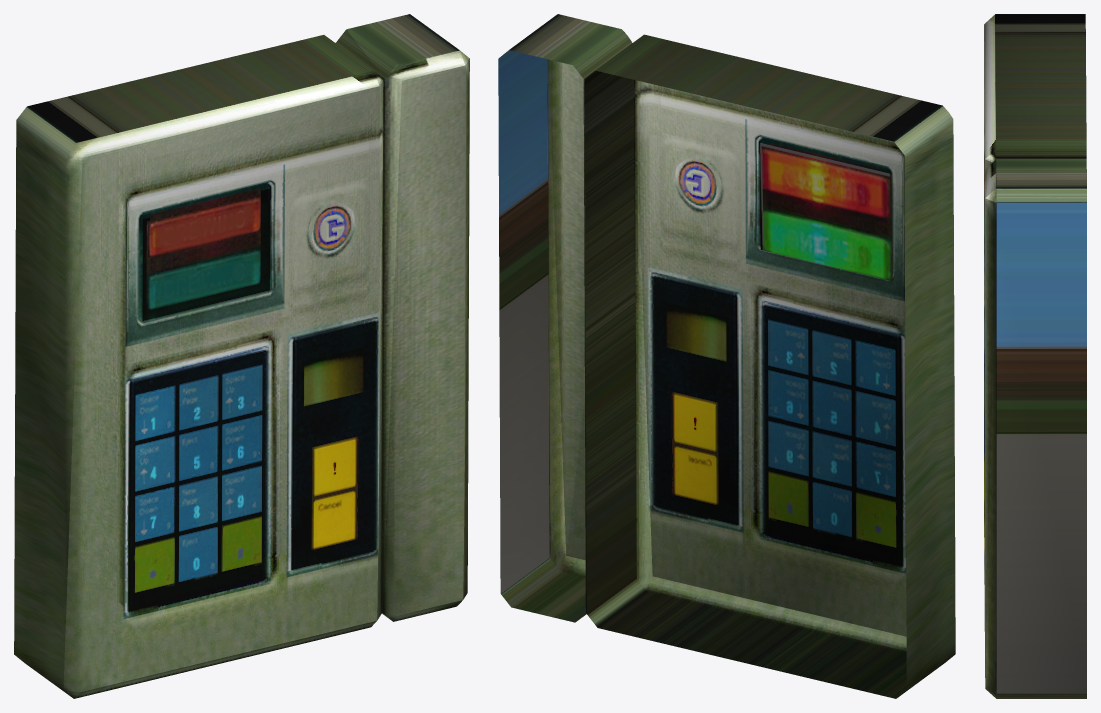
File: G_U_N_%20Key%20Card.fbx
3 views of the same model, side by side, from view 1: azimuth 30°, elevation 25°; view 2: azimuth 150°, elevation 25°; view 3: azimuth 270°, elevation 25° (orthographic). The views are drawn at different scales.
Visible parts, largest first — view 1: Mesh_0008.001; view 2: Mesh_0008.001, Mesh_0008; view 3: Mesh_0008.001.
Part boxes in pixels (bbox=[...]): Mesh_0008.001: bbox=[14, 14, 469, 698]; Mesh_0008.001: bbox=[498, 14, 955, 698]; Mesh_0008: bbox=[760, 143, 892, 280]; Mesh_0008.001: bbox=[984, 14, 1086, 698].
Bounding box in the file's own units: 0.3833 × 0.5016 × 0.0912.
1 material, 1 textured.
